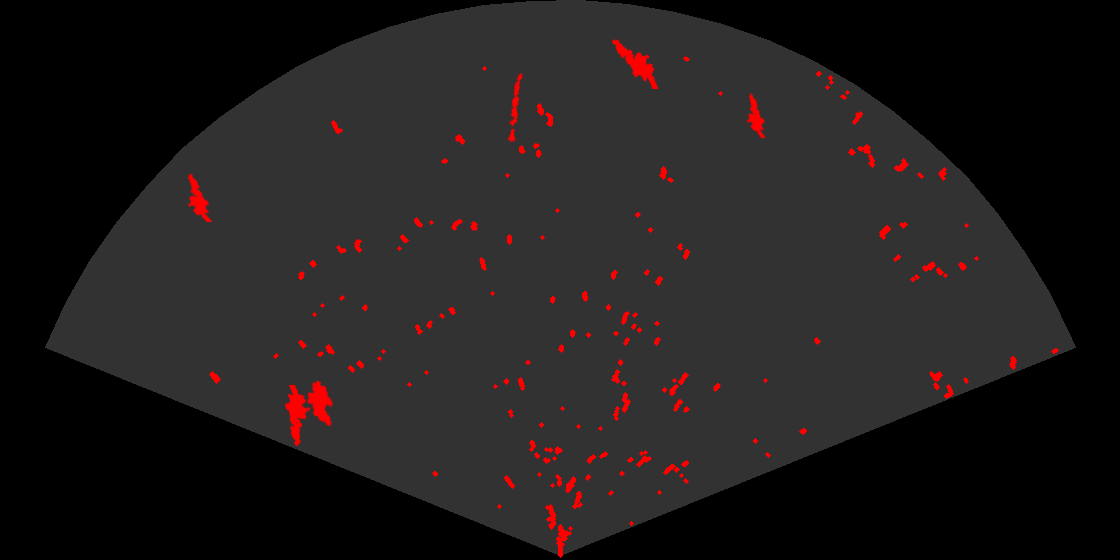AUV: (305, 379, 335, 428)
chain: (506, 71, 524, 142)
frogman: (610, 37, 660, 89), (283, 385, 312, 448), (186, 172, 214, 222), (745, 92, 768, 138)
